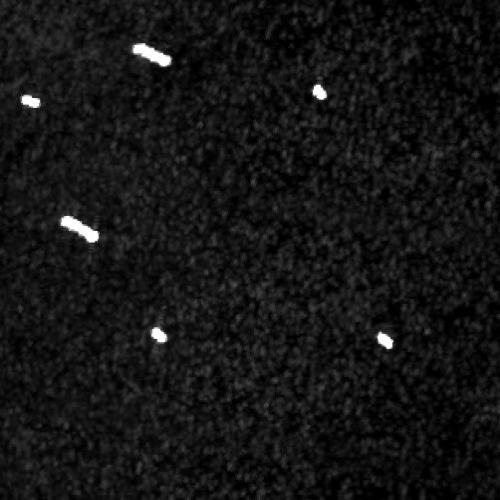ship: (60, 215, 99, 244), (131, 42, 173, 68), (19, 94, 42, 110), (151, 325, 168, 345), (377, 330, 394, 350), (312, 82, 328, 101)
